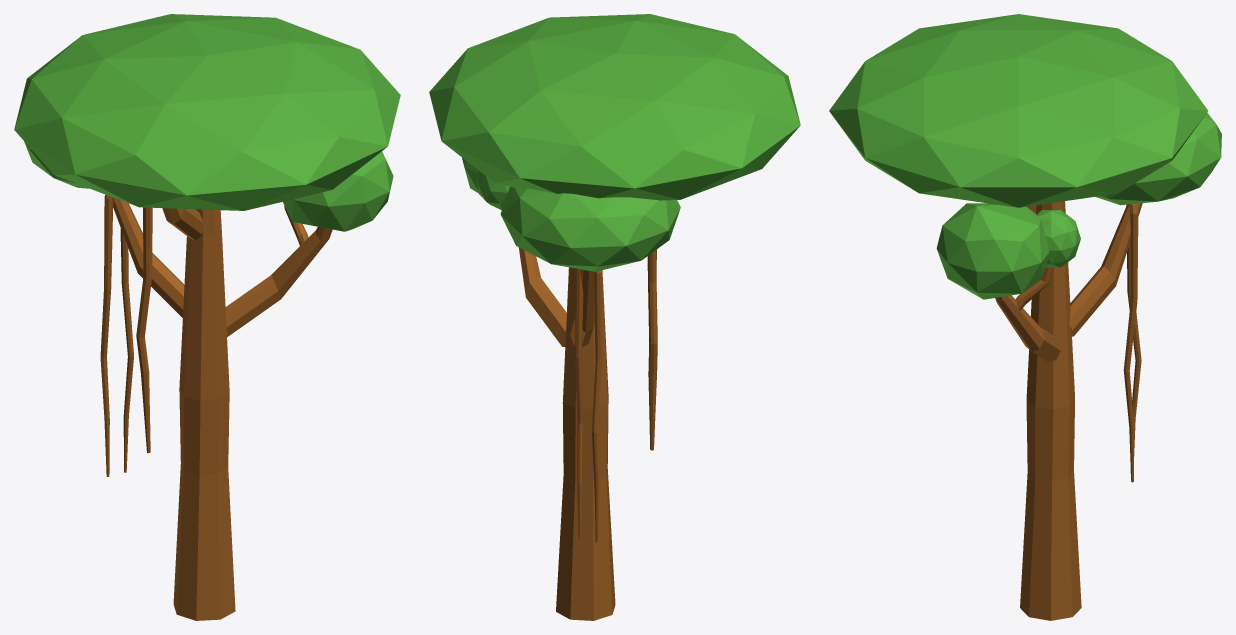
Rendered from ENVI_LV2-3_pohon_Tinggi.fbx.
3 views of the same model, side by side, from view 1: azimuth 30°, elevation 25°; view 2: azimuth 150°, elevation 25°; view 3: azimuth 270°, elevation 25° (orthographic). The views are drawn at different scales.
Parts seen in each view (by area): view 1: pohon Tinggi; view 2: pohon Tinggi; view 3: pohon Tinggi.
Part boxes in pixels (x1,y1,x2,y2): pohon Tinggi: (14, 14, 400, 620); pohon Tinggi: (429, 14, 800, 620); pohon Tinggi: (829, 14, 1221, 620).
Size of the model in its own units: 683 by 1134 by 741.
